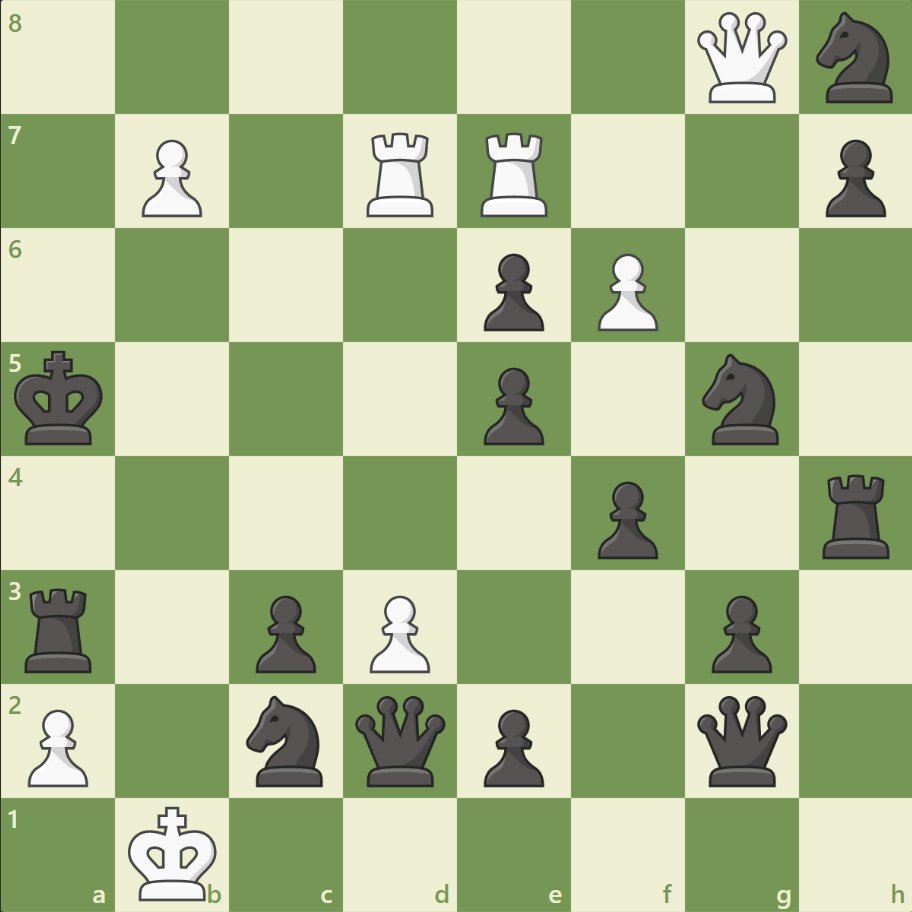K: (124, 798, 224, 906)
P: (133, 132, 208, 223), (20, 700, 95, 791), (588, 246, 662, 337), (361, 586, 435, 677)
Q: (691, 9, 790, 108)
R: (473, 125, 556, 222), (360, 125, 442, 222)
k: (11, 344, 111, 452)
n: (806, 7, 903, 110), (238, 688, 335, 791), (692, 348, 789, 450)
p: (474, 246, 549, 337), (474, 359, 549, 450), (247, 586, 322, 677), (701, 586, 776, 677), (474, 700, 549, 791), (815, 132, 889, 223), (588, 473, 662, 564)
q: (351, 690, 450, 789), (691, 690, 790, 789)
r: (814, 466, 897, 563), (19, 579, 102, 676)
